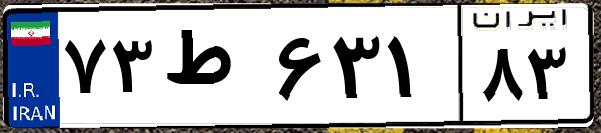1: (385, 28, 445, 110)
3: (330, 28, 385, 110), (525, 38, 570, 115), (110, 28, 158, 98)
6: (270, 28, 330, 110)
7: (57, 26, 110, 100)
8: (475, 38, 525, 113)
ط: (158, 20, 270, 120)
